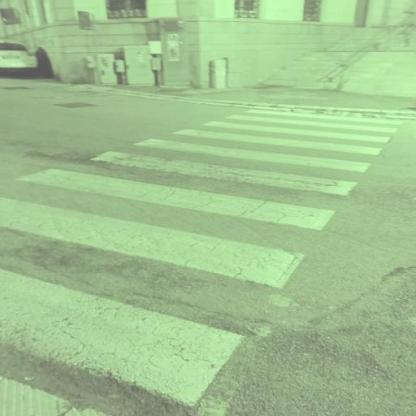crosswalk: (0, 186, 315, 416), (171, 119, 396, 158)
